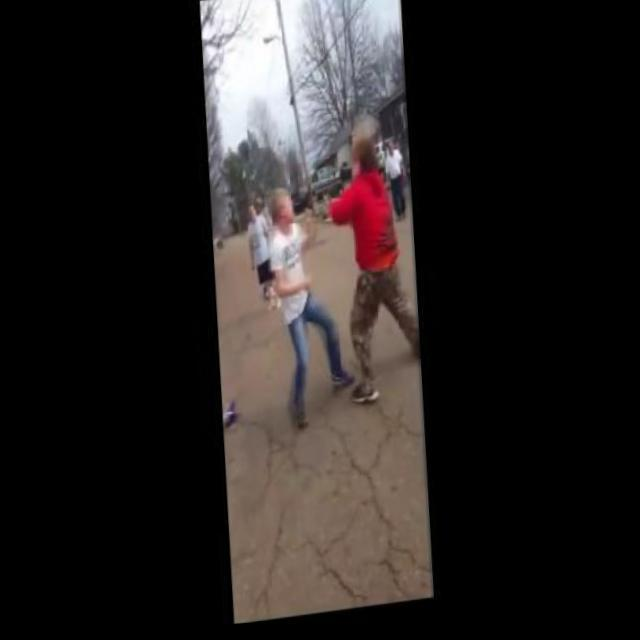fight: (252, 120, 420, 443)
